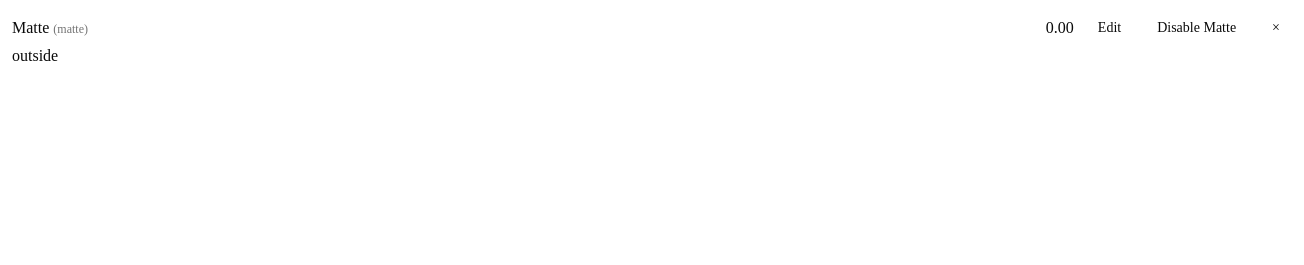
Test: ValueRow percentage pricing › shows a percent field when percentage is chosen
Click the button with aria-label "Edit Matte" at (1109, 28), box [1086,12,1133,44]
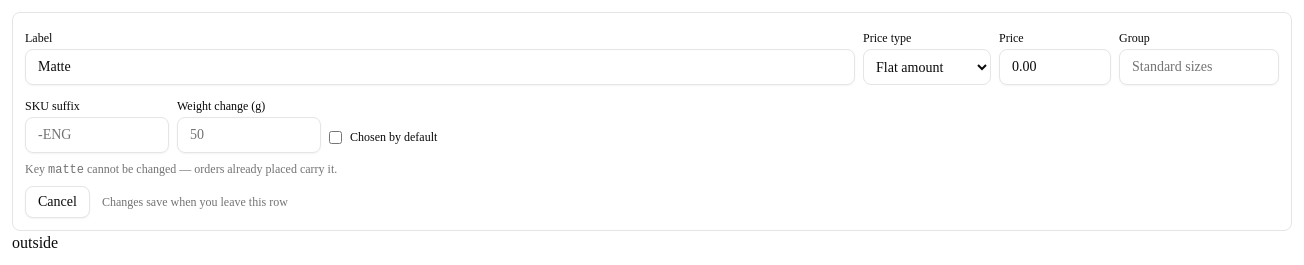
Select "Percentage" in the dropdown labelled "Price type" at (927, 67), box [863,49,991,85]
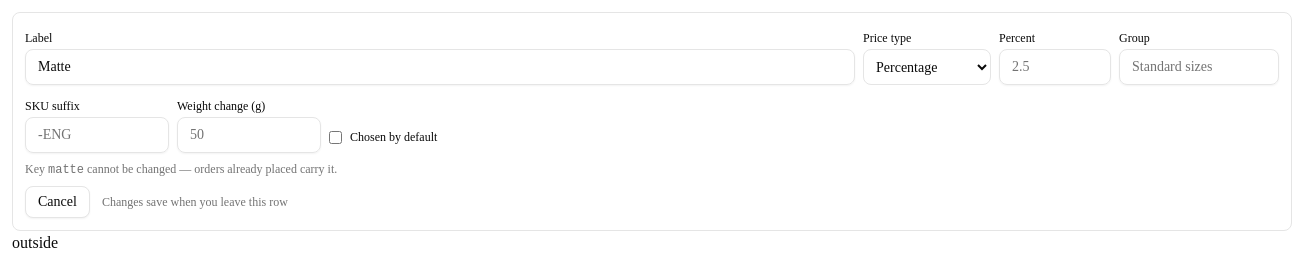
Expected: the field labelled "Percent" is shown, [999,49,1111,85]
